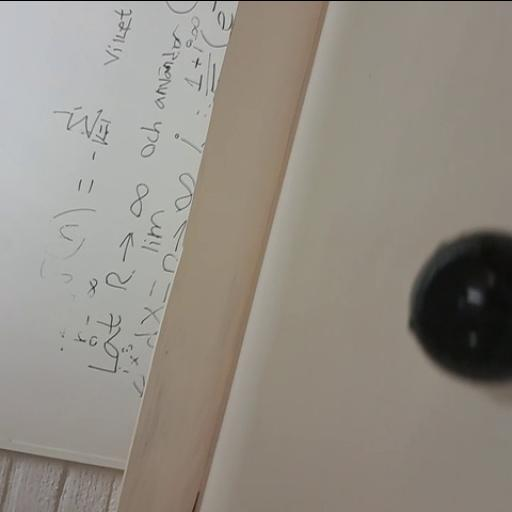dead: (406, 228, 510, 386)
